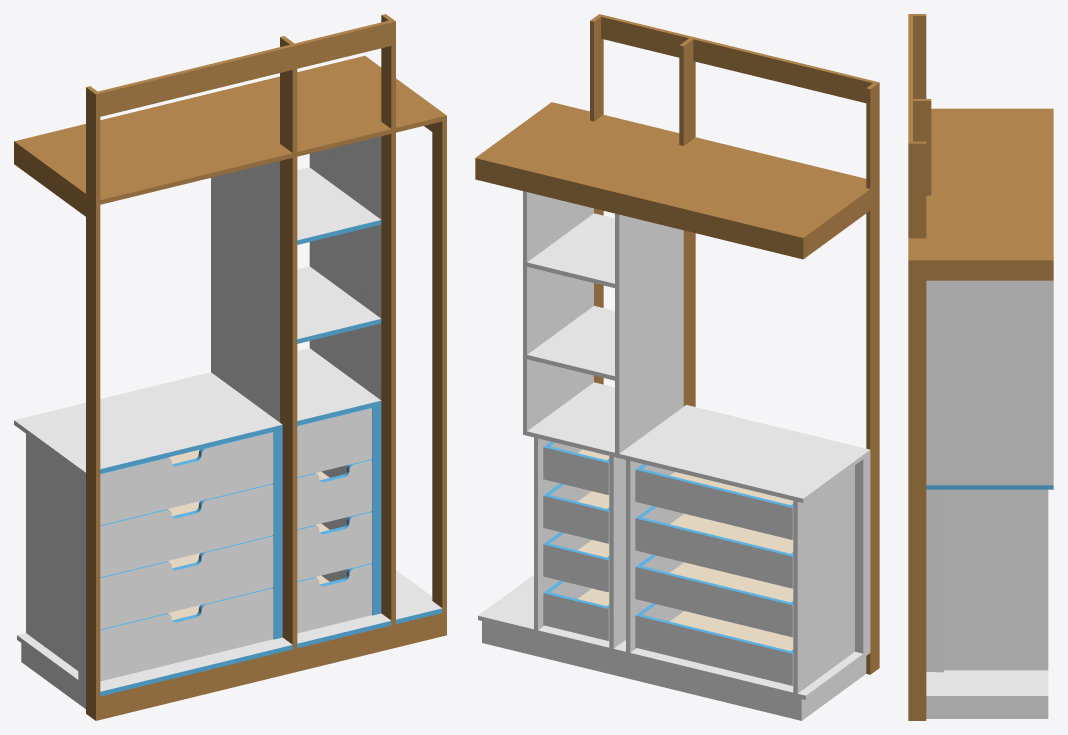
The model's file is Ropero-01.glb.
The picture shows the model from 3 angles, left to right: view 1: azimuth 30°, elevation 25°; view 2: azimuth 150°, elevation 25°; view 3: azimuth 270°, elevation 25°; orthographic projection. The views are drawn at different scales.
Parts seen in each view (by area): view 1: DC01-PuertaCajon01 (×4), 964, DC01-Techo01, DC01-Separacion01, DC01-Lateral01 (×3), DC01-PuertaCajon02 (×3), DC01-Separacion02, 552, 284, 395, 230, 328 (+8 smaller); view 2: 964, DC01-CajonParalelo01 (×4), DC01-Lateral01 (×4), DC01-Techo01, DC01-Separacion01, DC01-Separacion02, DC01-CajonParalelo02 (×4), DC01-Repisa01Parte01 (×2), DC01-Zocalo02, 284, 328, DC01-CajonFondo01 (×4) (+9 smaller); view 3: DC01-Separacion02, 964, DC01-Lateral01, 656, DC01-Piso01, DC01-Parante02, DC01-Zocalo01, 1131, 395, 284, 552, 328 (+1 smaller).
Part boxes in pixels (bbox=[...]): DC01-PuertaCajon01 (×4): bbox=[100, 432, 273, 681]; 964: bbox=[14, 56, 446, 204]; DC01-Techo01: bbox=[14, 348, 381, 477]; DC01-Separacion01: bbox=[211, 161, 279, 422]; DC01-Lateral01 (×3): bbox=[26, 406, 376, 670]; DC01-PuertaCajon02 (×3): bbox=[297, 459, 371, 633]; DC01-Separacion02: bbox=[309, 136, 381, 399]; 552: bbox=[280, 36, 297, 649]; 284: bbox=[86, 86, 100, 718]; 395: bbox=[381, 14, 395, 625]; 230: bbox=[93, 612, 446, 720]; 328: bbox=[93, 19, 395, 117]; 964: bbox=[475, 102, 870, 242]; DC01-CajonParalelo01 (×4): bbox=[639, 469, 790, 684]; DC01-Lateral01 (×4): bbox=[534, 437, 854, 693]; DC01-Techo01: bbox=[523, 382, 870, 502]; DC01-Separacion01: bbox=[615, 213, 683, 453]; DC01-Separacion02: bbox=[523, 191, 593, 431]; DC01-CajonParalelo02 (×4): bbox=[547, 446, 606, 639]; DC01-Repisa01Parte01 (×2): bbox=[527, 213, 614, 380]; DC01-Zocalo02: bbox=[482, 621, 804, 720]; 284: bbox=[866, 83, 879, 674]; 328: bbox=[597, 14, 879, 105]; DC01-CajonFondo01 (×4): bbox=[670, 472, 793, 650]; DC01-Separacion02: bbox=[926, 280, 1053, 485]; 964: bbox=[908, 108, 1053, 264]; DC01-Lateral01: bbox=[944, 489, 1048, 670]; 656: bbox=[908, 264, 926, 720]; DC01-Piso01: bbox=[926, 670, 1048, 700]; DC01-Parante02: bbox=[926, 489, 943, 672]; DC01-Zocalo01: bbox=[926, 700, 1043, 718]; 1131: bbox=[926, 264, 1053, 280]; 395: bbox=[908, 141, 926, 238]; 284: bbox=[913, 14, 926, 98]; 552: bbox=[913, 99, 931, 195]; 328: bbox=[908, 14, 912, 164].
Bounding box in the file's own units: 1.41 × 2.41 × 0.57.
